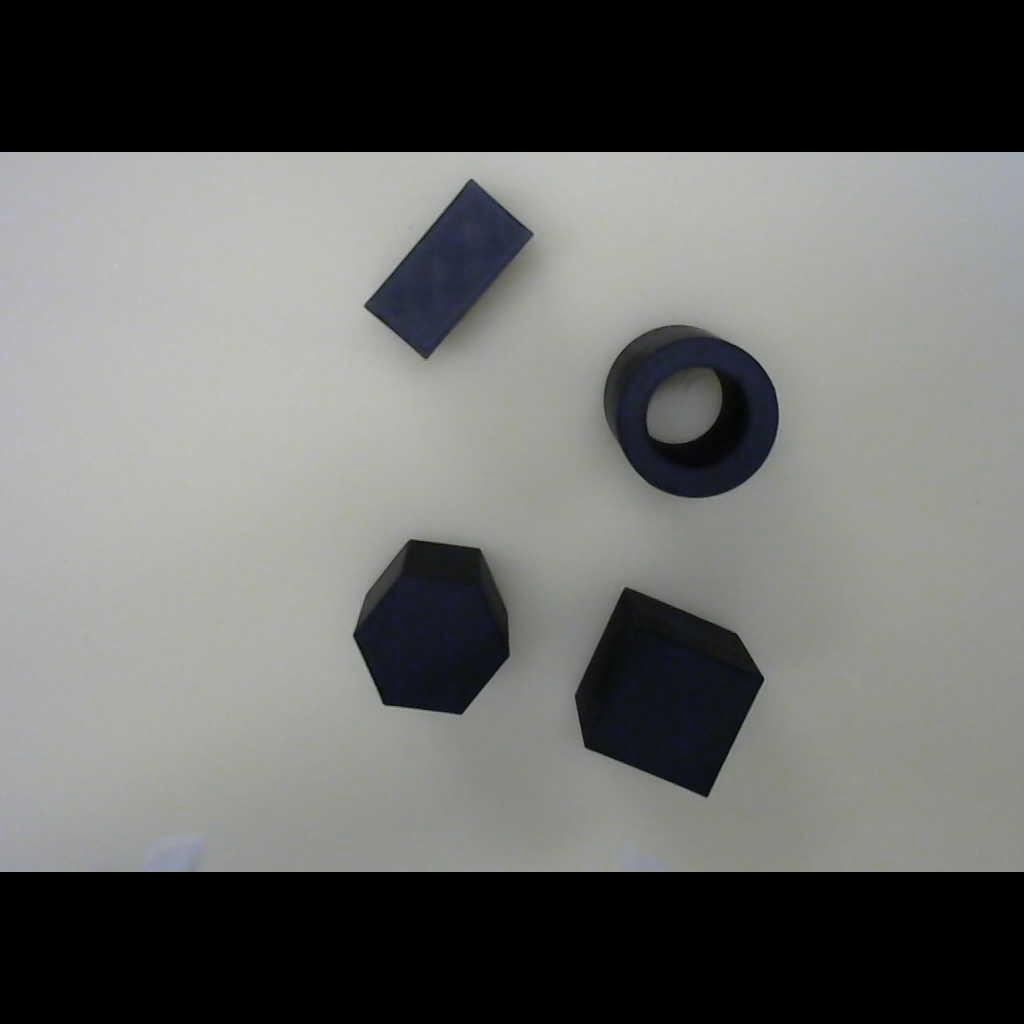hexagon: (315, 508, 543, 740)
rectangle: (339, 154, 558, 383)
ring: (588, 312, 792, 511)
square: (529, 555, 808, 827)
